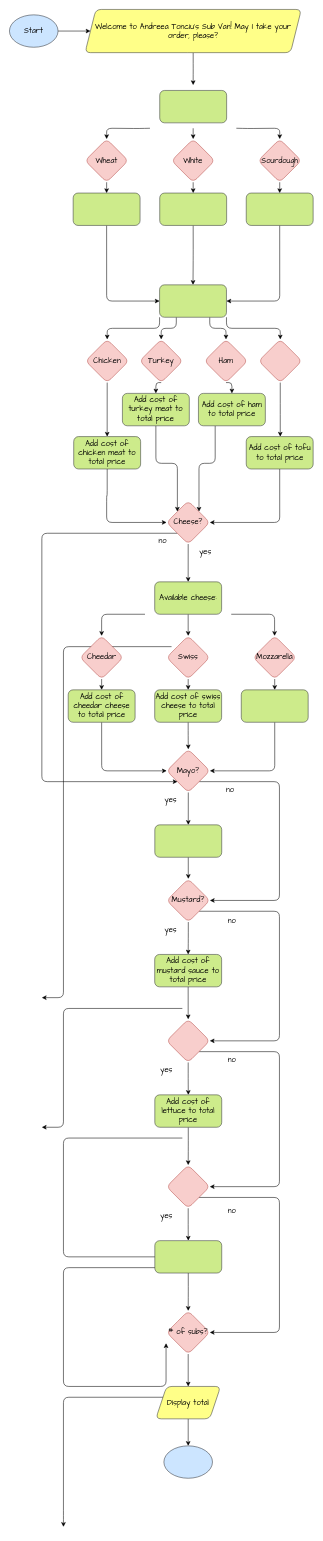
The diagram is 323 pixels wide and 1541 high, and some of its shapes have lost their labels. The box of each missing label's shape, as (x1, y1, x2, y2) in pixels:
Add cost of mayo sauce to total price: (154, 824, 222, 857)
Add cost of mozzarella cheese to total price: (241, 689, 308, 722)
Add cost of sourdough bread to total price: (246, 193, 313, 225)
Add cost of tomato to total price: (154, 1240, 222, 1273)
Add cost of wheat bread to total price: (73, 193, 140, 225)
Add cost of white bread to total price: (159, 193, 227, 225)
Available bread:: (159, 90, 227, 123)
Available protein:: (159, 284, 226, 317)
End: (163, 1445, 212, 1478)
Lettuce?: (166, 1019, 210, 1062)
Tofu: (258, 339, 302, 383)
Tomato?: (166, 1165, 210, 1208)
